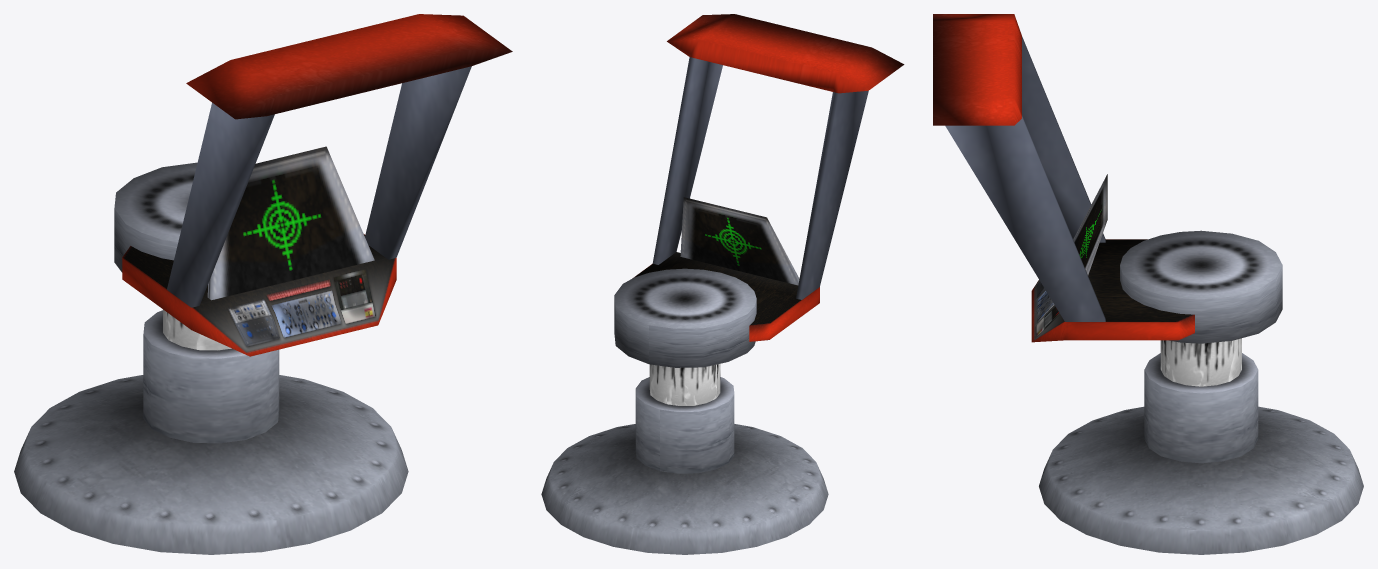
File: launcher_base.fbx
The picture shows the model from 3 angles, left to right: view 1: azimuth 30°, elevation 25°; view 2: azimuth 150°, elevation 25°; view 3: azimuth 270°, elevation 25°; orthographic projection. The views are drawn at different scales.
Visible parts, largest first — view 1: launcher_base; view 2: launcher_base; view 3: launcher_base.
Boxes of the visible parts, box(x1,y1,x2,y2) form: launcher_base: box(14, 14, 512, 554); launcher_base: box(541, 14, 904, 554); launcher_base: box(933, 14, 1363, 554).
Bounding box in the file's own units: 5.22 × 7.56 × 6.92.
1 material, 1 textured.
